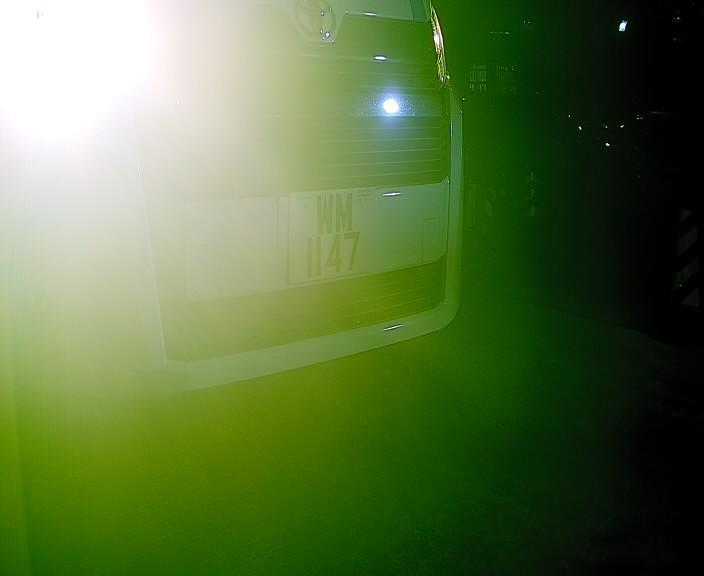License Plate: (269, 176, 404, 304)
